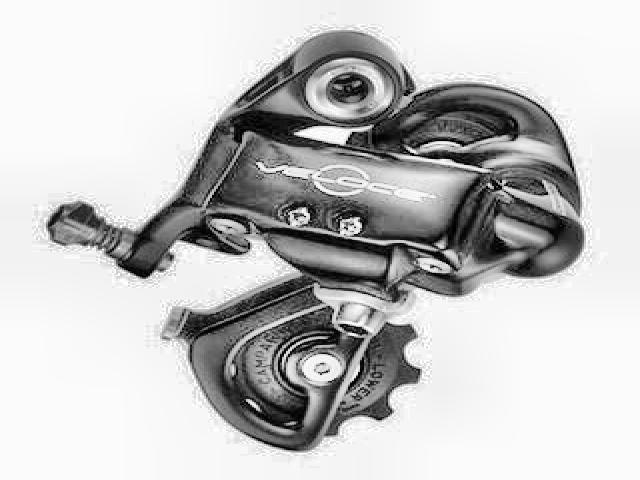rear_derailleur: (35, 26, 592, 459)
